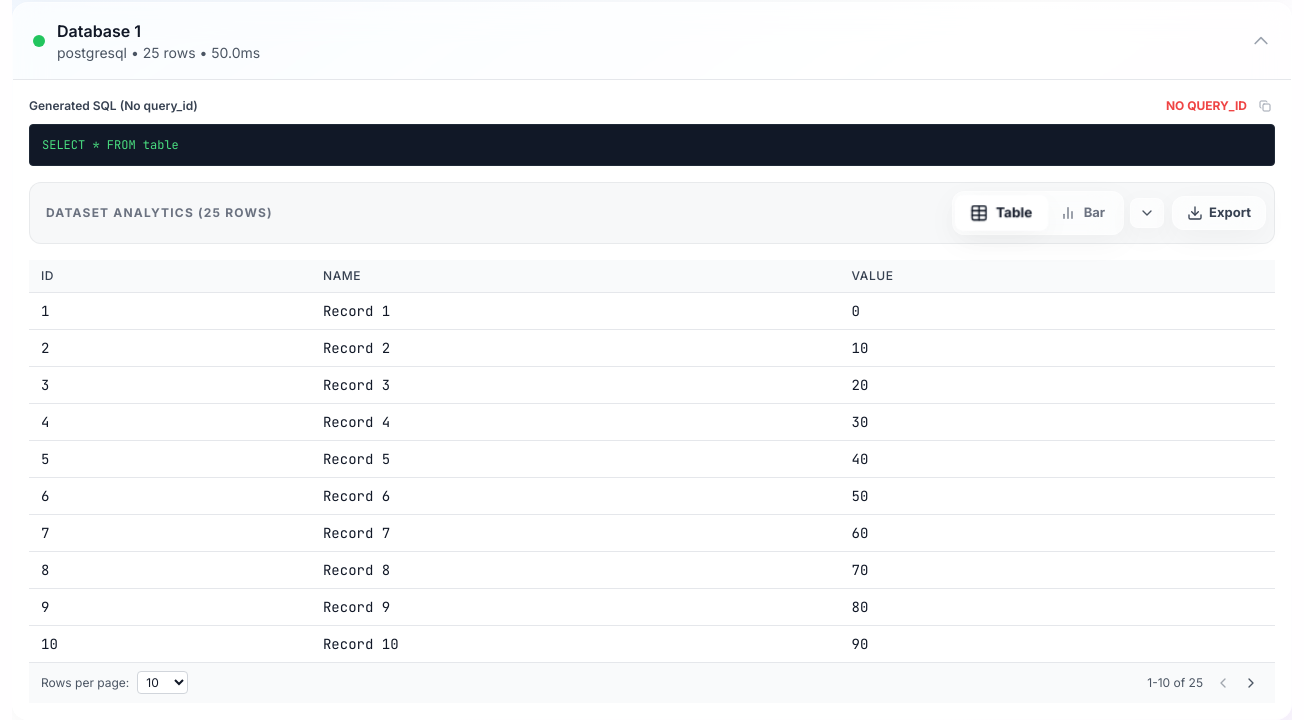
Test: MultiDatabaseResults › Pagination › can navigate to next page
(page scrolled)
Click the 8th button at [1251, 682], box [1239, 670, 1263, 694]
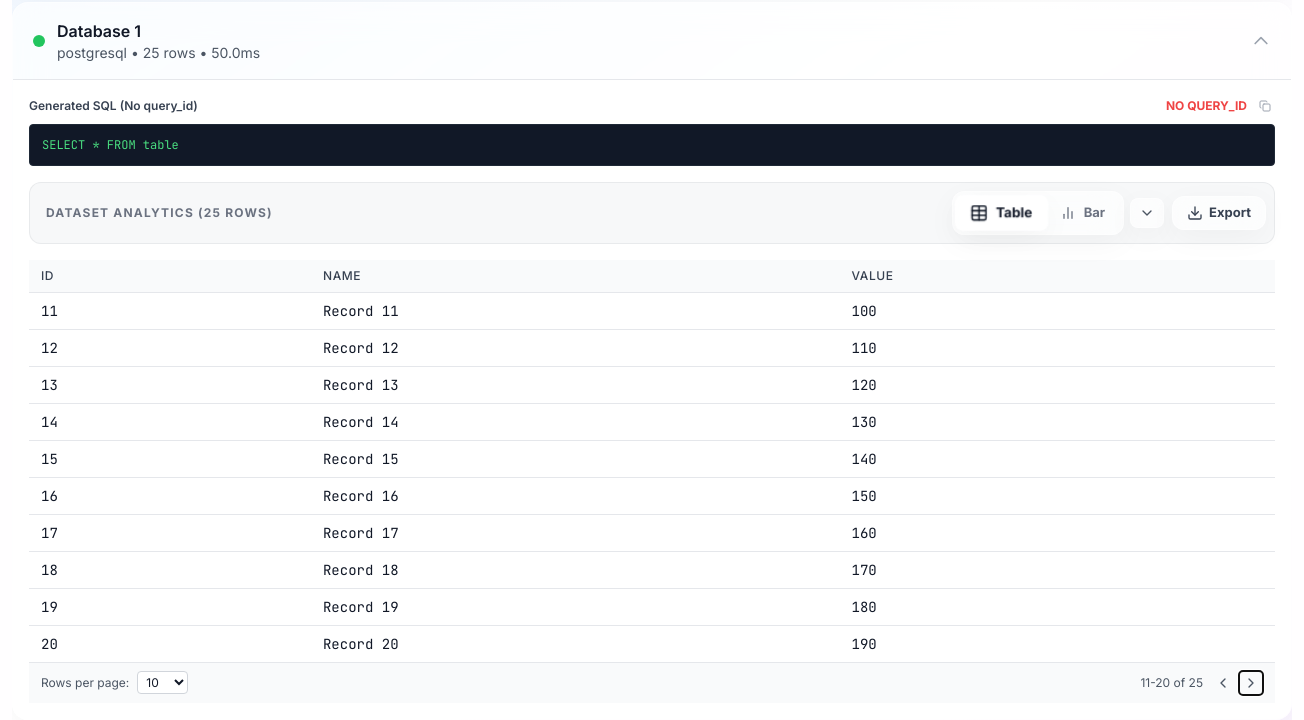
Now the text "Record 11" is shown, box [311, 292, 840, 329]
Now the text "Record 20" is shown, box [311, 625, 840, 662]
Now the text "11-20 of 25" is shown, box [1140, 674, 1203, 690]
